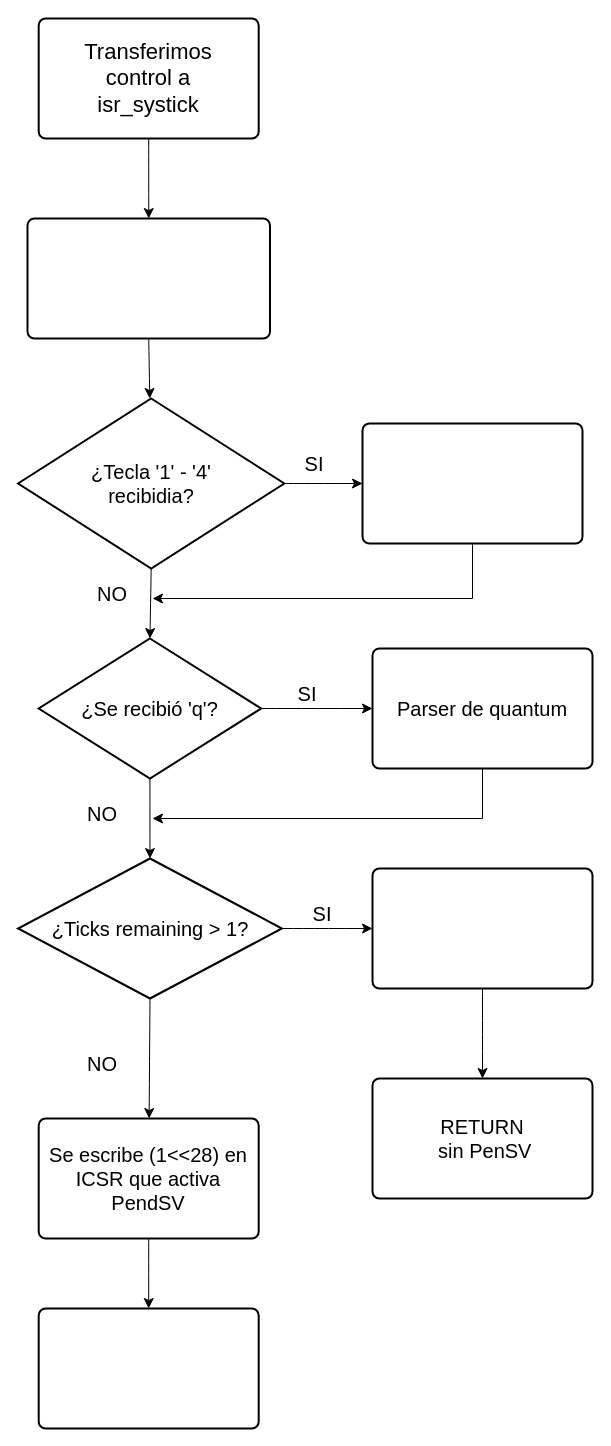
Some shapes in this 611 by 1446 pixel diagram are drawn without their labels. Here are the shapes that lost their labels. From the top down, the centre of each, then its label:
point (148, 278): getchar_timeout_us(0) Lectura USB no bloqueante
point (472, 483): Si la tarea esta en DORMANT pasa a READY i nit_task_stack()
point (482, 928): Decrementamos los ticks pendientes
point (148, 1368): RETURN a lo que se estaba ejecutando
